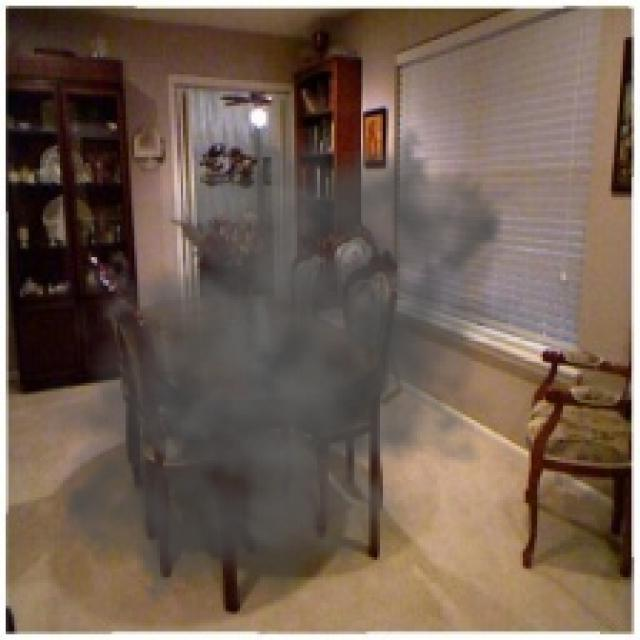Smoke: (23, 92, 546, 638)
